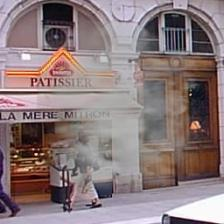fire: (37, 21, 220, 202)
